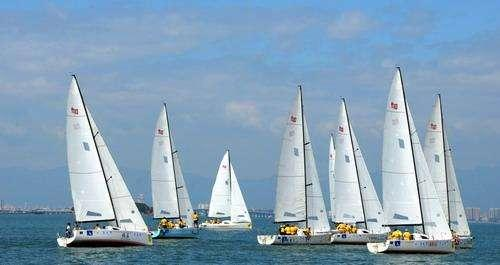fanchuan: (54, 75, 154, 248), (370, 64, 451, 252), (257, 85, 328, 247), (328, 94, 380, 245), (426, 92, 476, 247), (153, 100, 203, 240), (206, 146, 256, 232)
